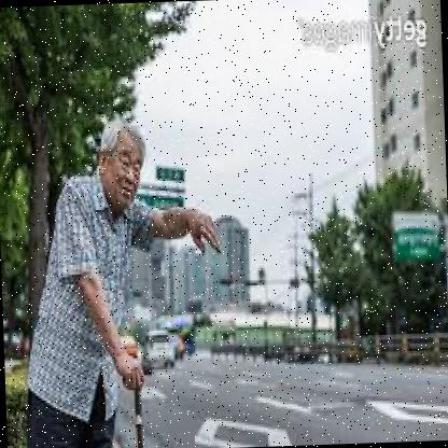silver: (14, 115, 228, 447)
